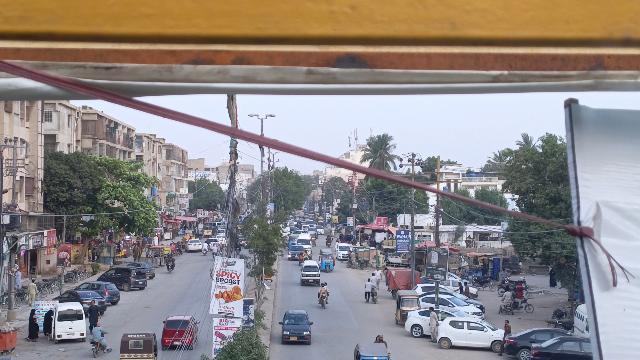Bike: (512, 297, 534, 315), (89, 339, 103, 357), (370, 281, 379, 305), (318, 292, 329, 309), (503, 300, 512, 316), (165, 262, 176, 275)
Car: (437, 315, 502, 350), (502, 327, 575, 356), (405, 306, 466, 337), (530, 333, 596, 360), (419, 293, 484, 319), (160, 314, 200, 351), (96, 264, 148, 292), (279, 308, 313, 347), (55, 288, 107, 311), (78, 280, 121, 305)
Person: (25, 305, 40, 345), (426, 304, 440, 344), (86, 299, 100, 333), (499, 316, 510, 356), (361, 277, 373, 306), (42, 308, 53, 339), (26, 277, 38, 305), (89, 321, 106, 340), (511, 286, 522, 308), (317, 281, 329, 294), (375, 266, 382, 288), (501, 288, 512, 302), (166, 252, 176, 264)
Rickshaw: (119, 330, 159, 360), (393, 289, 420, 327), (353, 341, 391, 360), (318, 248, 337, 274)
Van: (51, 299, 88, 343), (299, 259, 321, 287)
